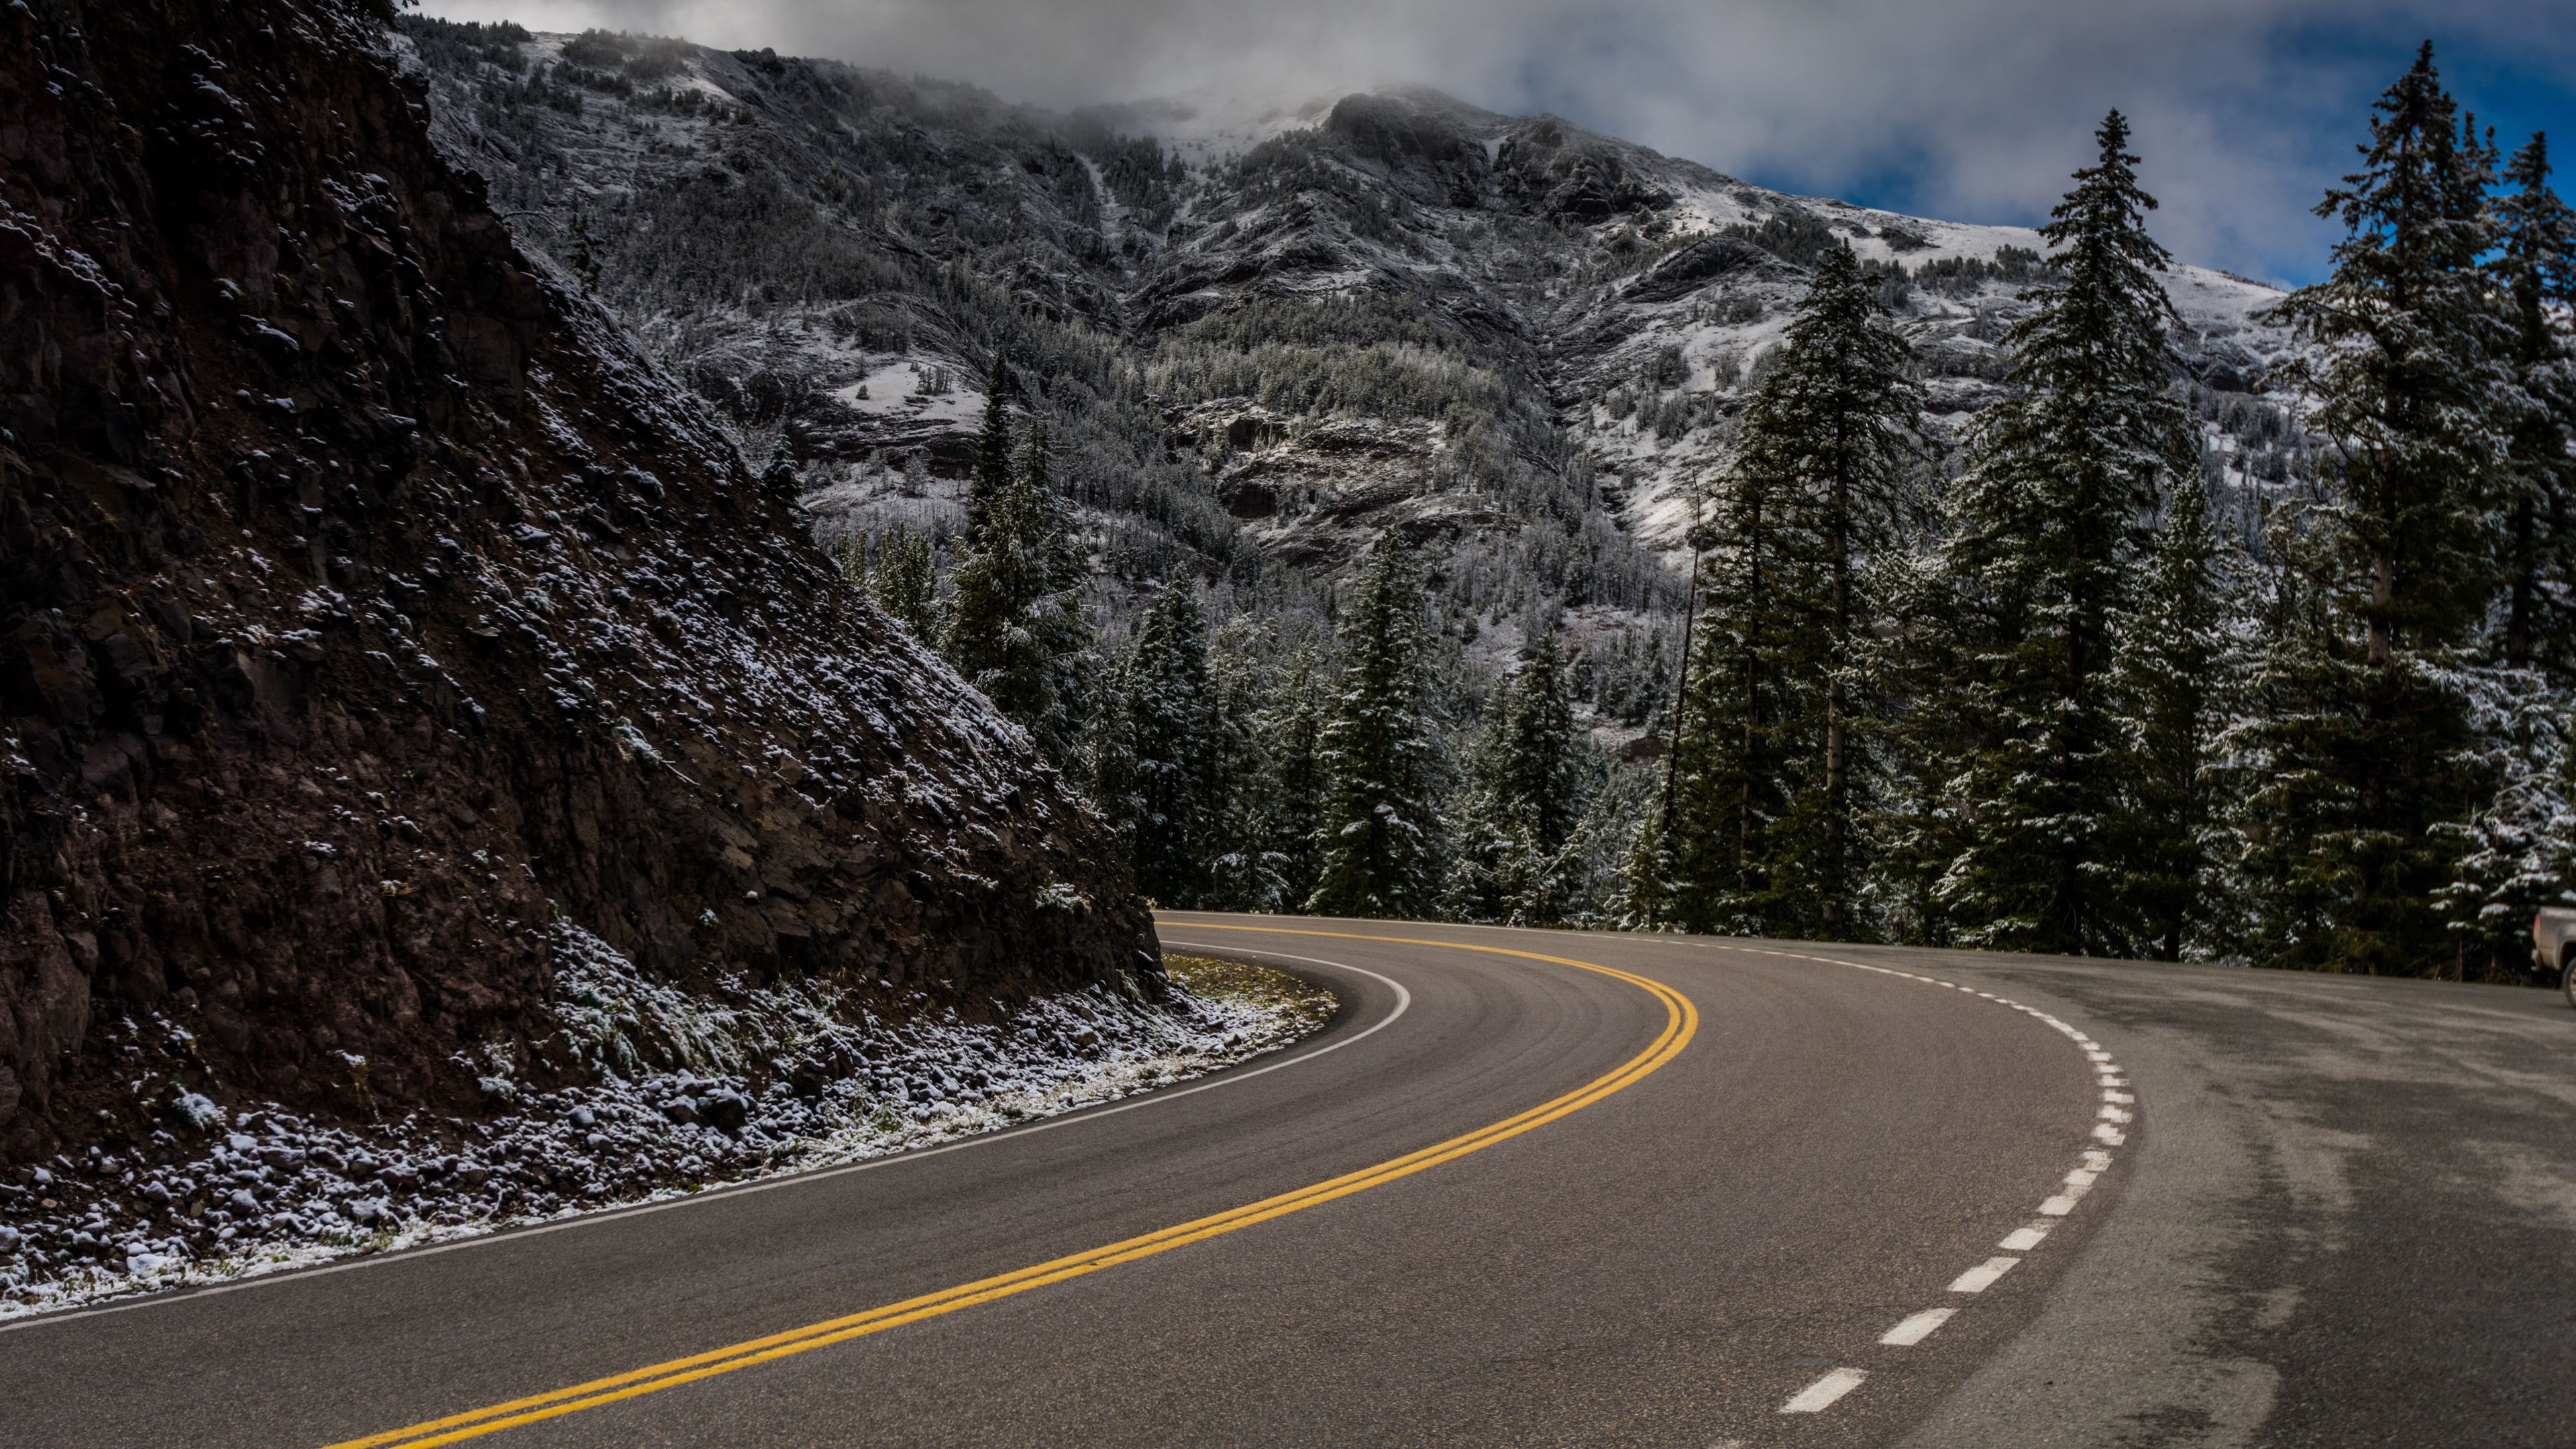leftTrun: (1148, 717, 1983, 1399)
